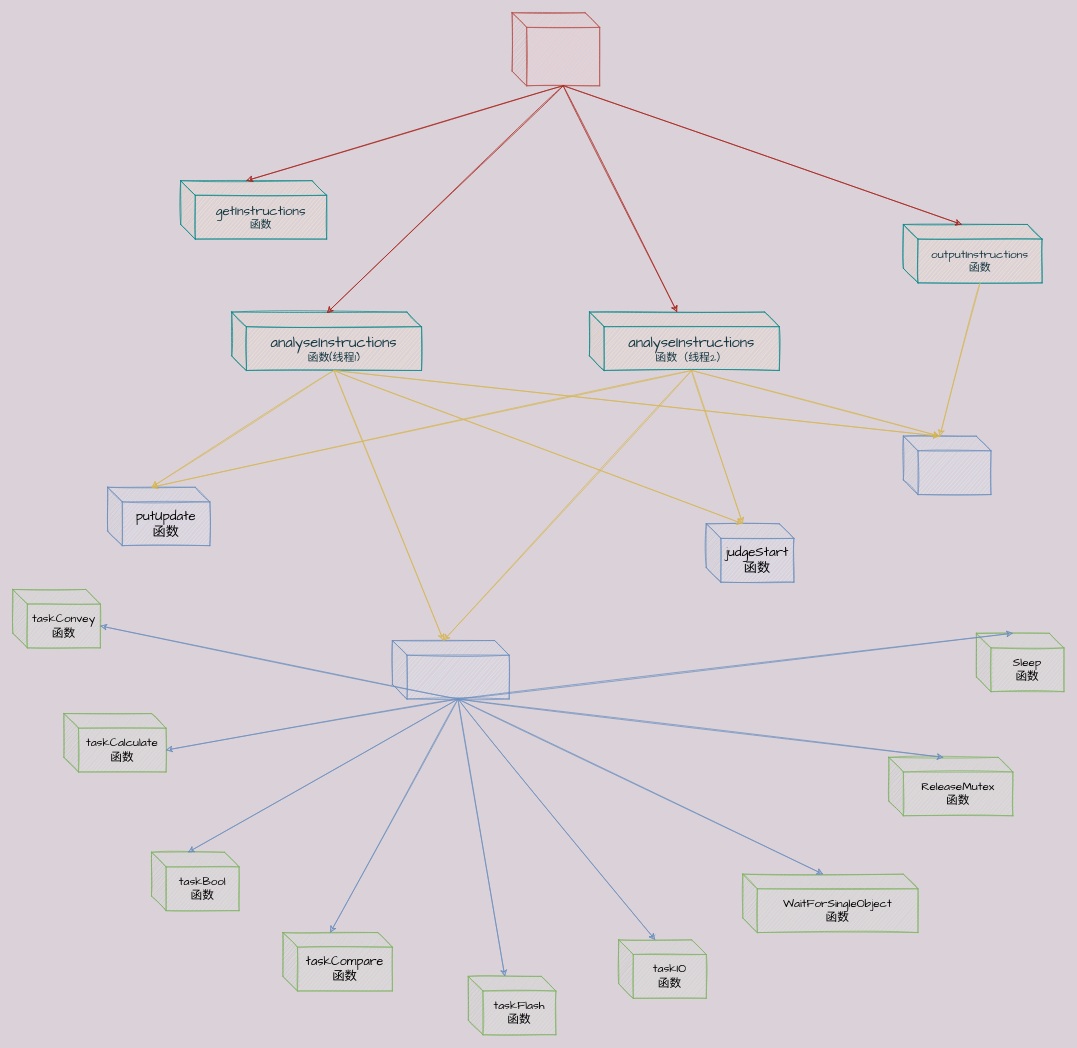
The diagram is 1077 pixels wide and 1048 high, and some of its shapes have lost their labels. The shapes that lost their labels are listed below. From the top down, each one's box as (x1, y1, x2, y2) in pixels, then its label:
(511, 12, 600, 86): main函数
(903, 435, 991, 495): transBase 函数
(392, 640, 509, 699): dicideWork 函数
